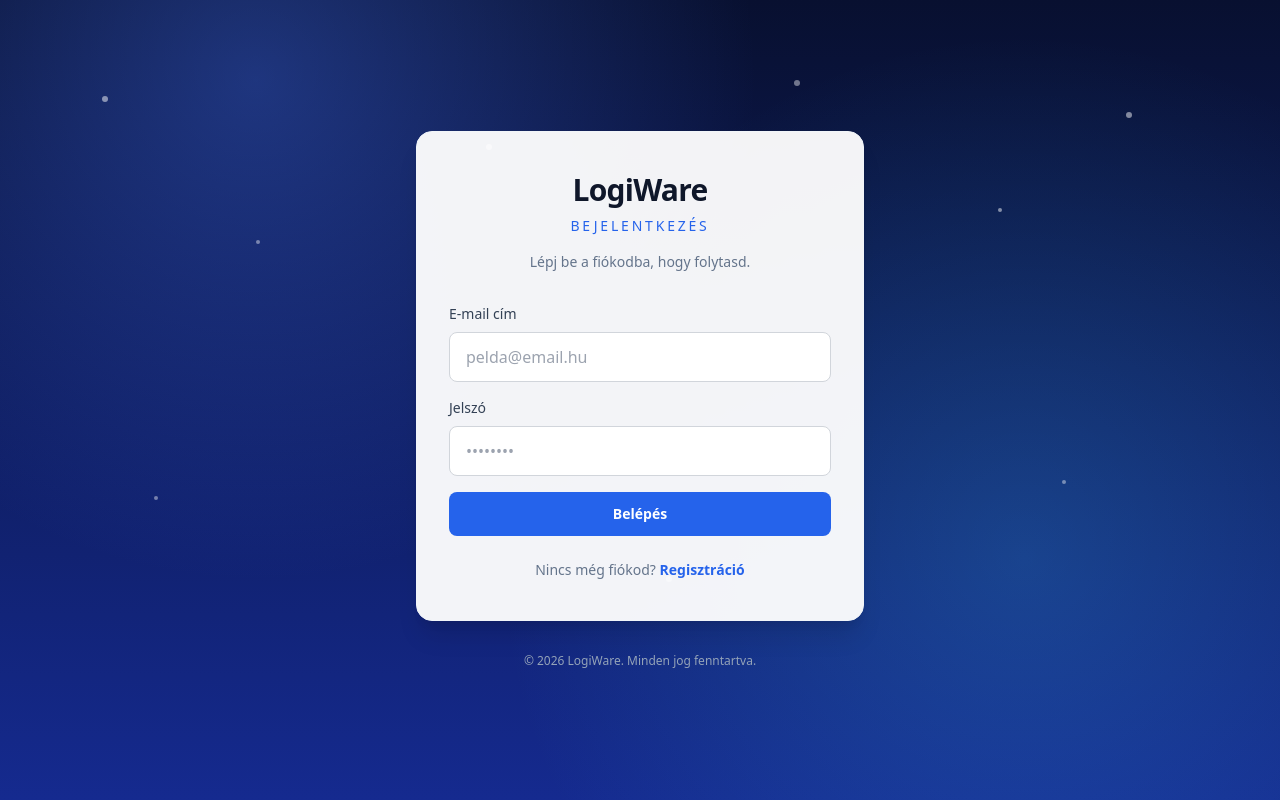
Scenario: shows empty-field error when form submitted with empty fields
Click the button "Belépés": (640, 514) top-left (449, 492), bottom-right (831, 536)
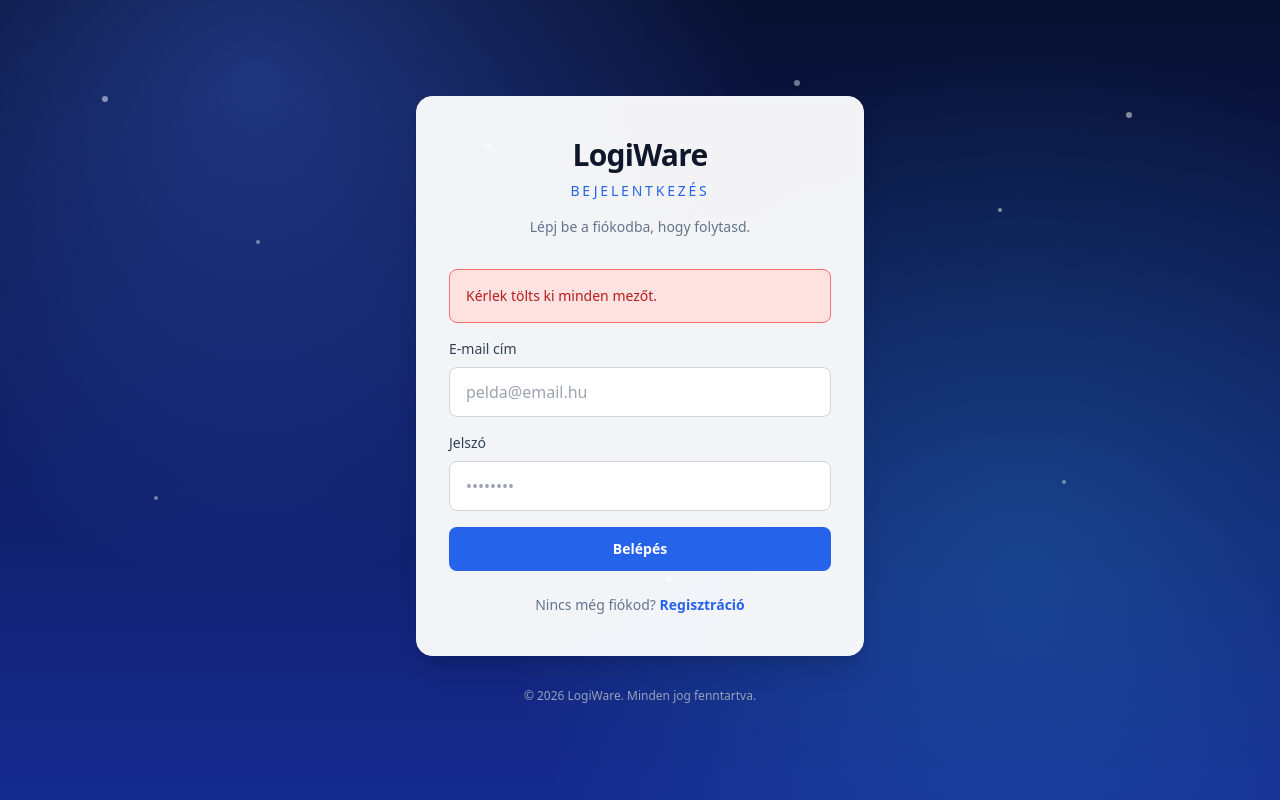
Expected: the text "Kérlek tölts ki minden mezőt." is shown, top-left (449, 269), bottom-right (831, 323)
